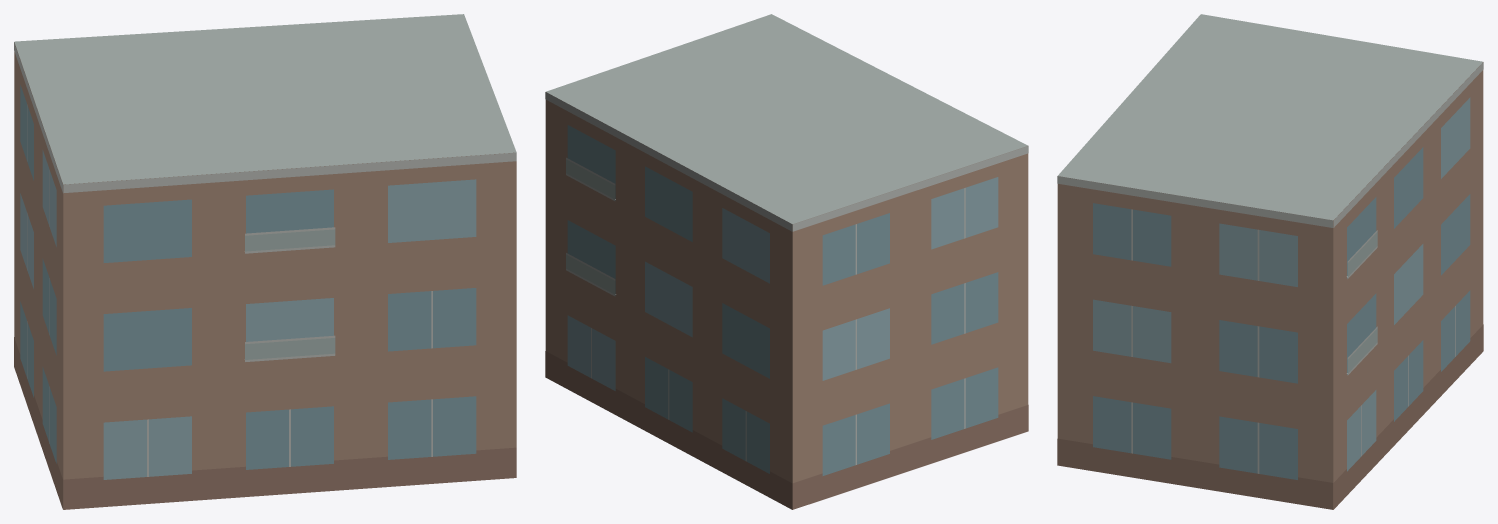
File: survey-upis-32485519.glb
The picture shows the model from 3 angles, left to right: view 1: azimuth 30°, elevation 25°; view 2: azimuth 150°, elevation 25°; view 3: azimuth 270°, elevation 25°; orthographic projection. The views are drawn at different scales.
Visible parts, largest first — view 1: survey-upis-32485519.tmp; view 2: survey-upis-32485519.tmp; view 3: survey-upis-32485519.tmp.
Part boxes in pixels (bbox=[...]): survey-upis-32485519.tmp: bbox=[14, 14, 516, 509]; survey-upis-32485519.tmp: bbox=[545, 14, 1028, 509]; survey-upis-32485519.tmp: bbox=[1057, 14, 1483, 509].
Size of the model in its own units: 14 by 9.15 by 12.21.
